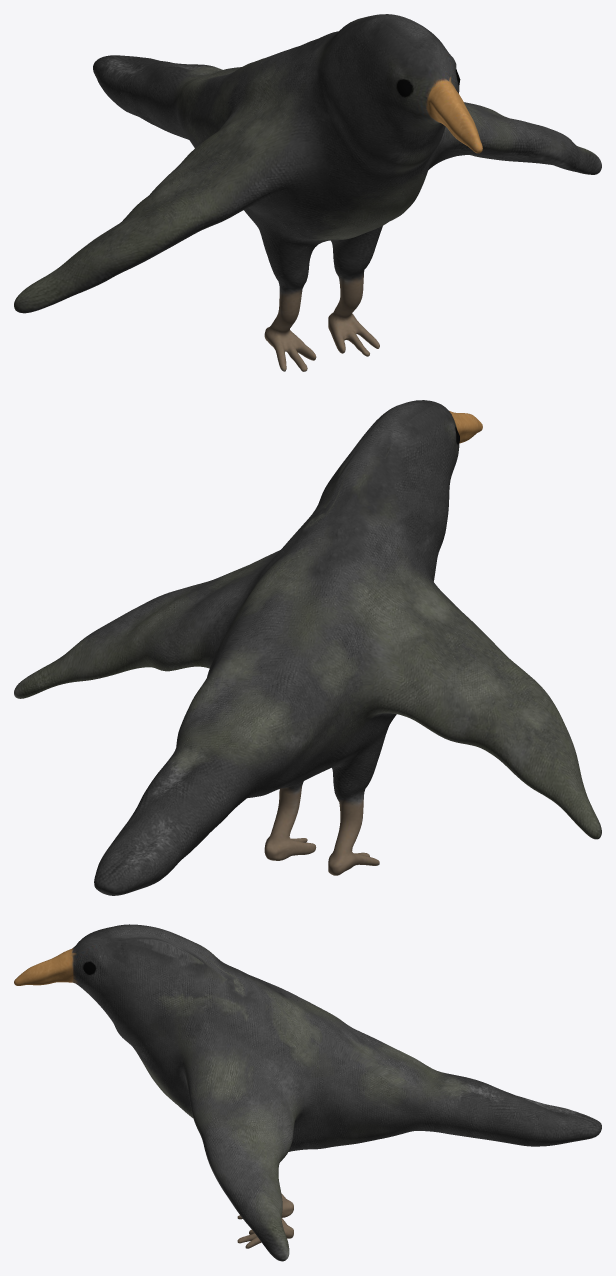
The model's file is Crow.FBX.
The picture shows the model from 3 angles, top to bottom: view 1: azimuth 30°, elevation 25°; view 2: azimuth 150°, elevation 25°; view 3: azimuth 270°, elevation 25°; orthographic projection. The views are drawn at different scales.
Parts seen in each view (by area): view 1: Cuervo2:Group29183; view 2: Cuervo2:Group29183; view 3: Cuervo2:Group29183.
Boxes of the visible parts, x1,y1,x2,y2 form: Cuervo2:Group29183: (14, 14, 601, 371); Cuervo2:Group29183: (14, 400, 601, 895); Cuervo2:Group29183: (14, 924, 601, 1261).
Bounding box in the file's own units: 36.73 × 23.43 × 41.02.
